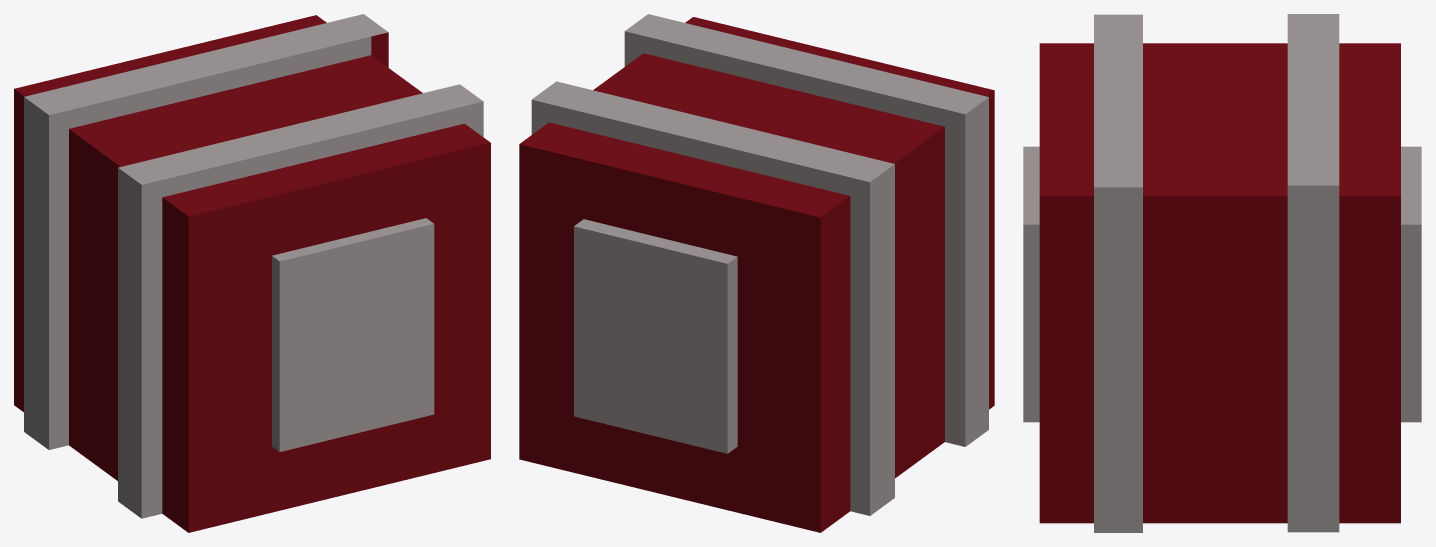
File: reparator.fbx
3 views of the same model, side by side, from view 1: azimuth 30°, elevation 25°; view 2: azimuth 150°, elevation 25°; view 3: azimuth 270°, elevation 25° (orthographic). The views are drawn at different scales.
Visible parts, largest first — view 1: Cube; view 2: Cube; view 3: Cube.
Part boxes in pixels (left/top/right/bottom): Cube: left=14, top=14, right=490, bottom=532; Cube: left=519, top=14, right=994, bottom=532; Cube: left=1023, top=14, right=1421, bottom=532.
Bounding box in the file's own units: 186 × 174 × 181.
